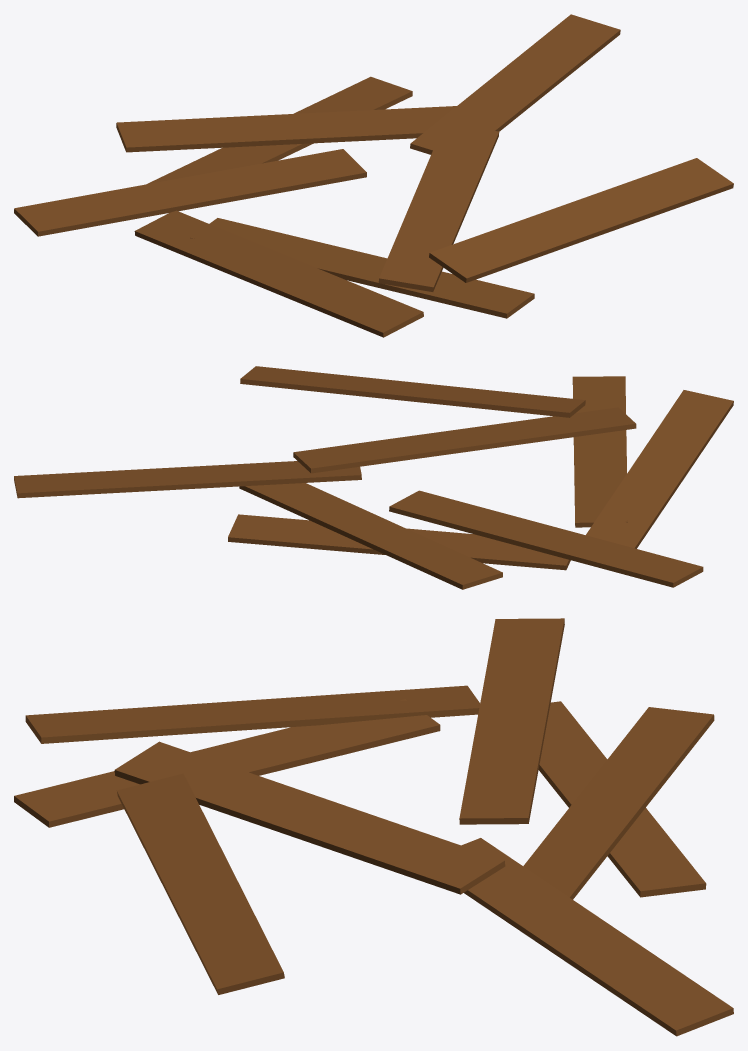
File: pila pequeña maderas.fbx
3 renders of one model, top to bottom at view 1: azimuth 30°, elevation 25°; view 2: azimuth 150°, elevation 25°; view 3: azimuth 270°, elevation 25°, orthographic. The views are drawn at different scales.
Visible parts, largest first — view 1: pila pequeña de maderas; view 2: pila pequeña de maderas; view 3: pila pequeña de maderas.
Boxes of the visible parts, x1,y1,x2,y2 form: pila pequeña de maderas: (14,14,733,337); pila pequeña de maderas: (14,366,733,589); pila pequeña de maderas: (14,618,733,1036).
Size of the model in its own units: 415 by 14.3 by 317.
